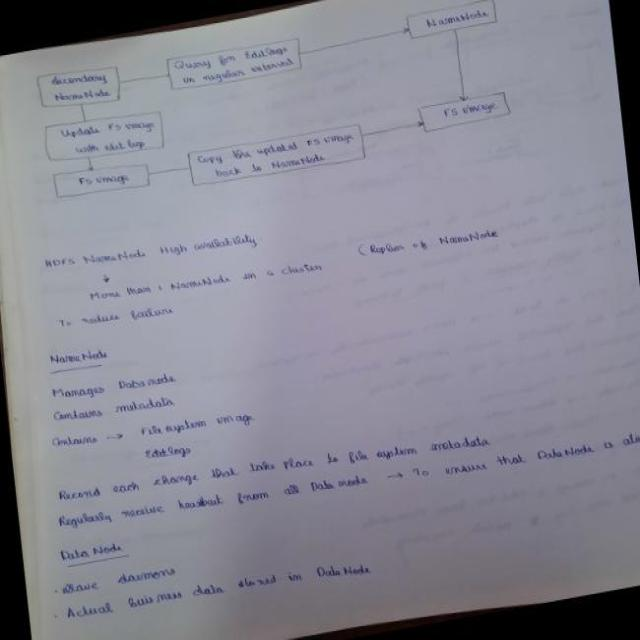Figure Detection - v3 Dataset Version2: (18, 0, 550, 237)
